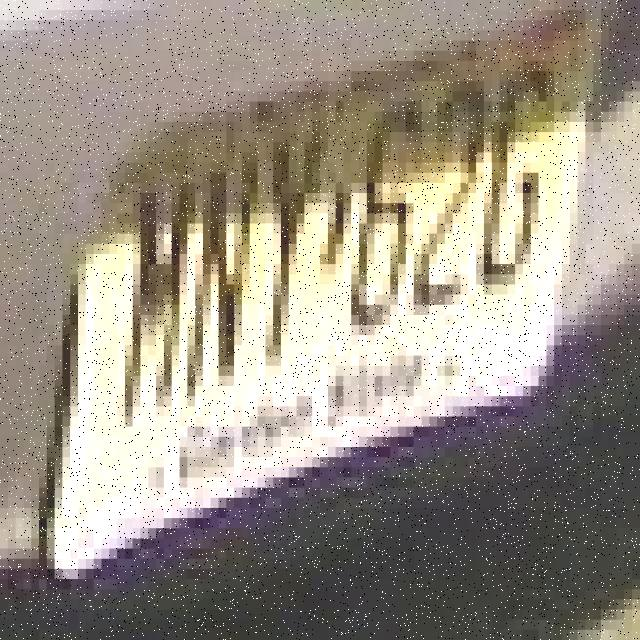licenseplate: (108, 59, 562, 489)
